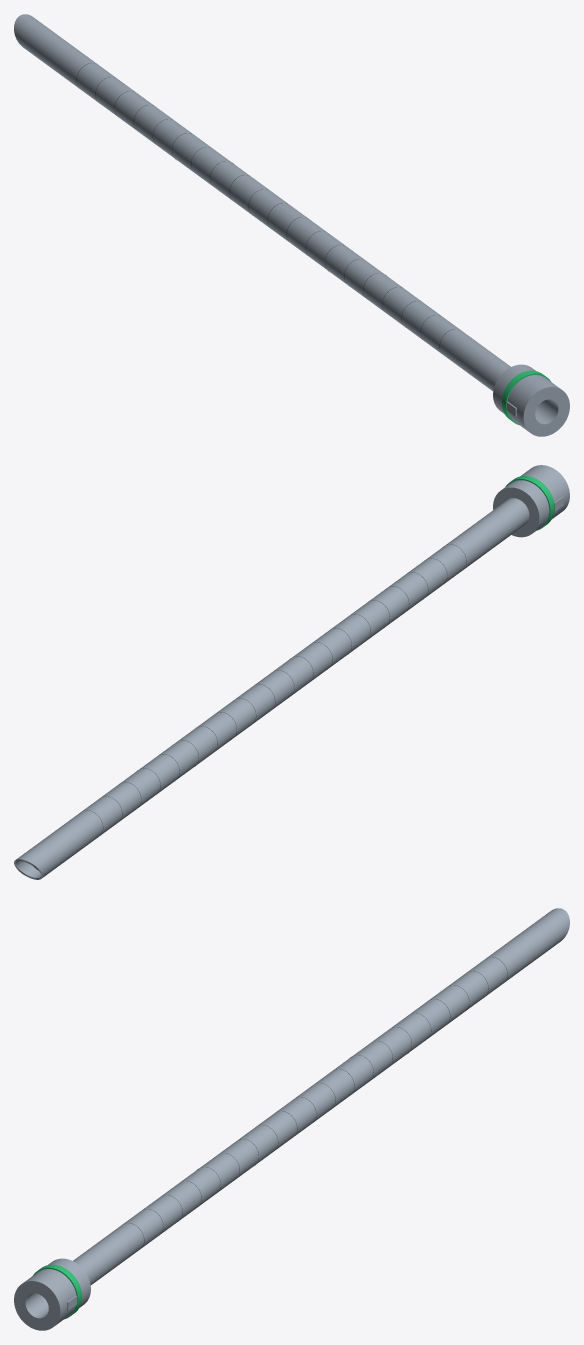
File: bt2205-3-tracheal-tube-od8p00-id7p00mm.glb
3 views of the same model, one above another, from view 1: azimuth 30°, elevation 25°; view 2: azimuth 150°, elevation 25°; view 3: azimuth 330°, elevation 25° (orthographic).
Visible parts, largest first — view 1: BT2205_3_Hollow_Beveled_Tube, BT2205_3_Quarter_Turn_Connector, BT2205_3_Metric_Depth_Scale; view 2: BT2205_3_Hollow_Beveled_Tube, BT2205_3_Quarter_Turn_Connector, BT2205_3_Metric_Depth_Scale; view 3: BT2205_3_Hollow_Beveled_Tube, BT2205_3_Quarter_Turn_Connector, BT2205_3_Metric_Depth_Scale.
Boxes of the visible parts, <box> form: BT2205_3_Hollow_Beveled_Tube: <box>14,14,510,391</box>; BT2205_3_Quarter_Turn_Connector: <box>493,364,569,436</box>; BT2205_3_Metric_Depth_Scale: <box>76,63,458,351</box>; BT2205_3_Hollow_Beveled_Tube: <box>14,498,529,879</box>; BT2205_3_Quarter_Turn_Connector: <box>493,465,569,537</box>; BT2205_3_Metric_Depth_Scale: <box>84,544,466,832</box>; BT2205_3_Hollow_Beveled_Tube: <box>73,908,569,1285</box>; BT2205_3_Quarter_Turn_Connector: <box>14,1258,90,1330</box>; BT2205_3_Metric_Depth_Scale: <box>125,957,507,1245</box>.
Bounding box in the file's own units: 0.0147 × 0.0147 × 0.274.
